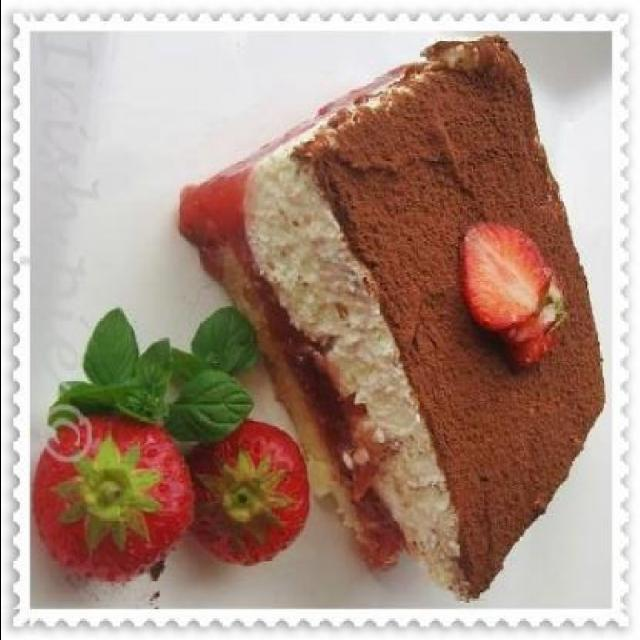Mushroom: (42, 399, 192, 587)
Tiramisu: (232, 16, 596, 588)
